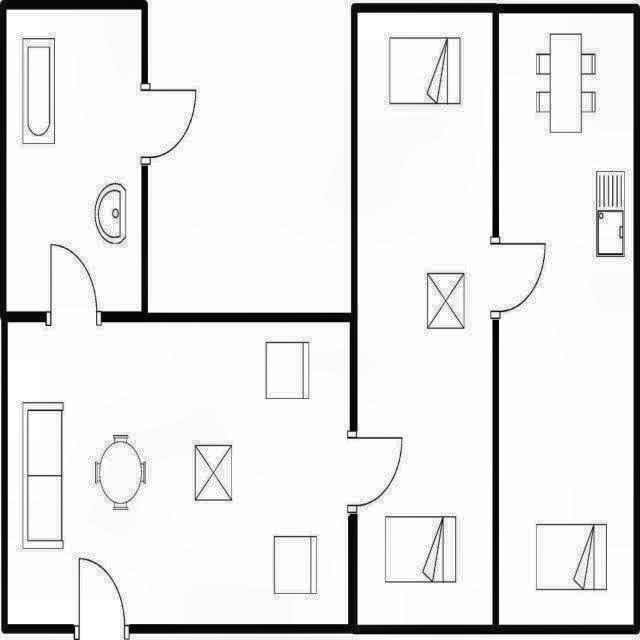room: (8, 322, 350, 624), (358, 12, 493, 625), (499, 13, 634, 625), (7, 9, 141, 312)
